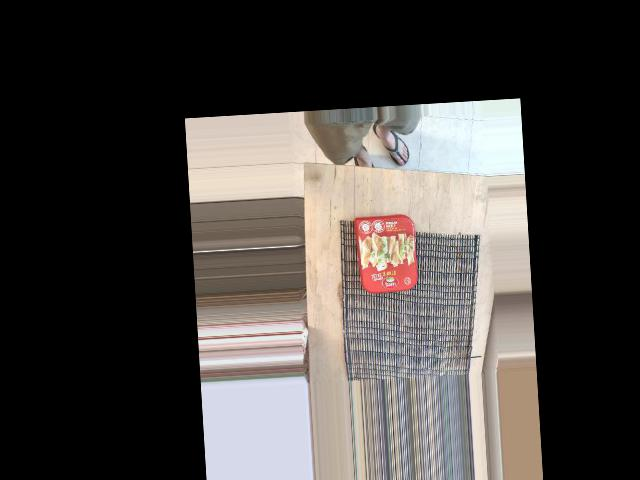cheese: (342, 180, 422, 301)
